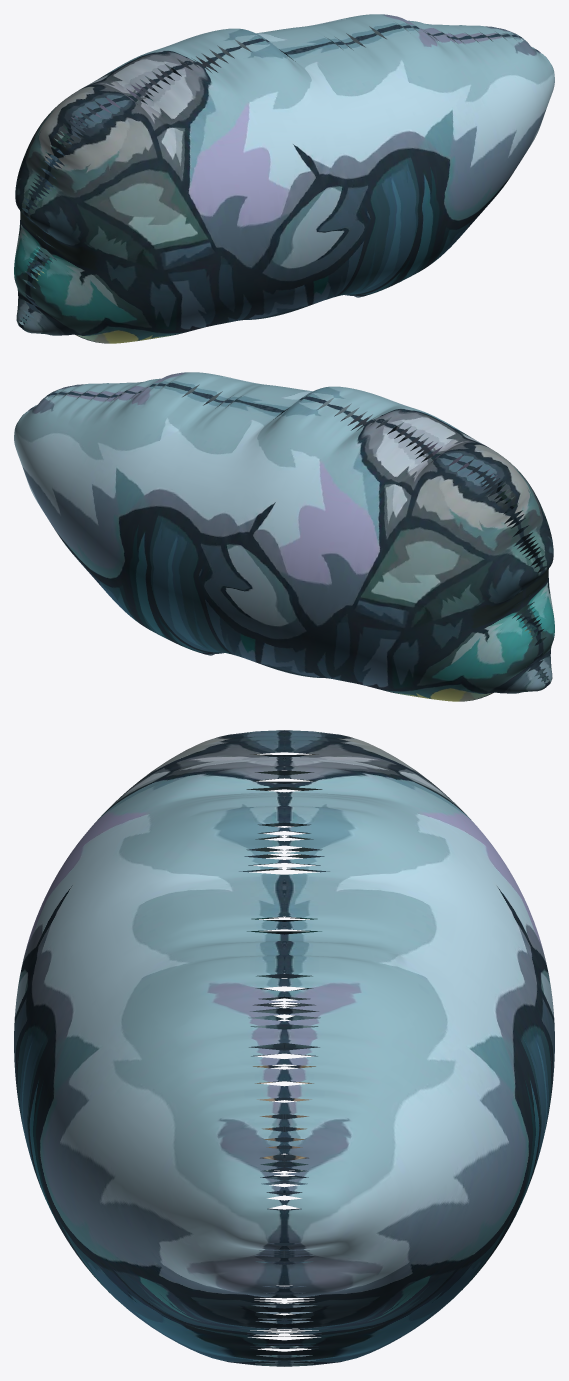
The model's file is upper_ice_bluff.glb.
The picture shows the model from 3 angles, top to bottom: view 1: azimuth 30°, elevation 25°; view 2: azimuth 150°, elevation 25°; view 3: azimuth 270°, elevation 25°; orthographic projection. The views are drawn at different scales.
Parts seen in each view (by area): view 1: upper_ice_bluff; view 2: upper_ice_bluff; view 3: upper_ice_bluff.
Boxes of the visible parts, x1,y1,x2,y2 form: upper_ice_bluff: (14,14,554,343); upper_ice_bluff: (14,372,554,701); upper_ice_bluff: (14,730,554,1366).
Size of the model in its own units: 0.9887 by 0.4716 by 0.51.
1 material, 1 textured.
